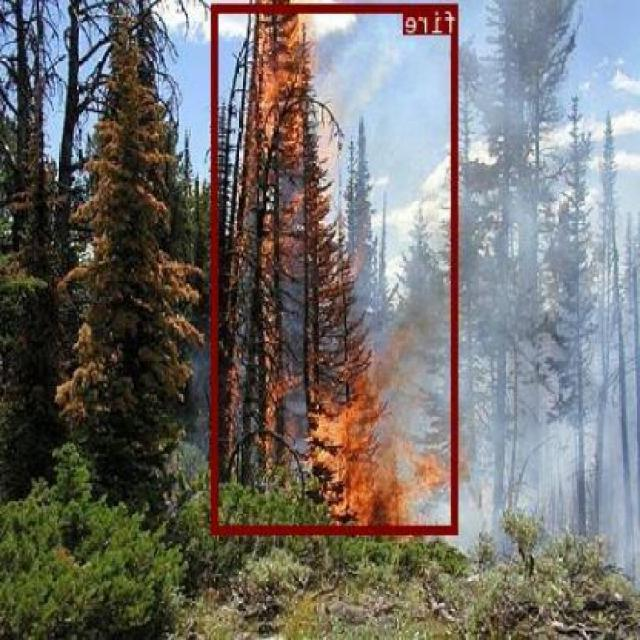Fire: (214, 2, 460, 532)
